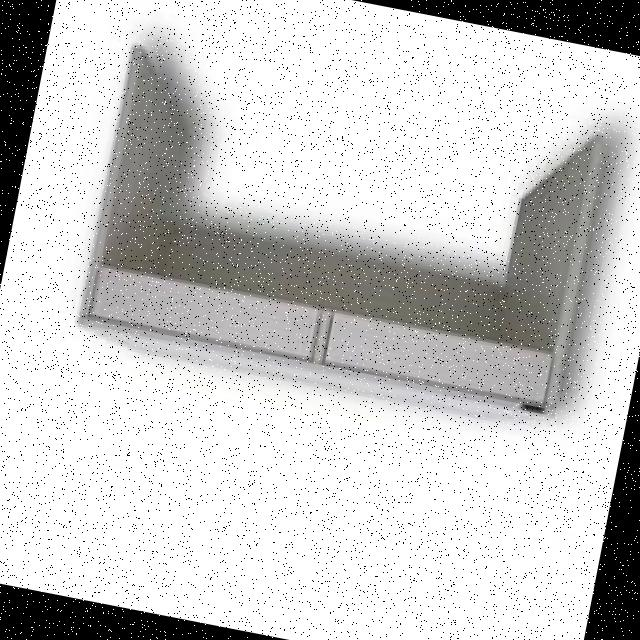Table: (54, 26, 640, 454)
